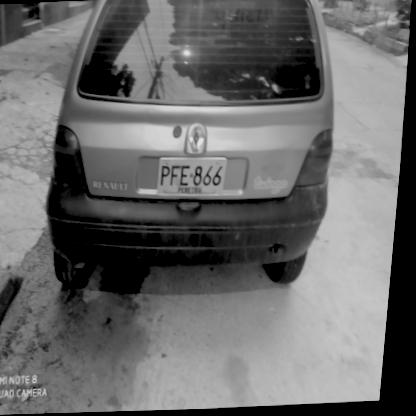placa: (156, 152, 232, 204)
